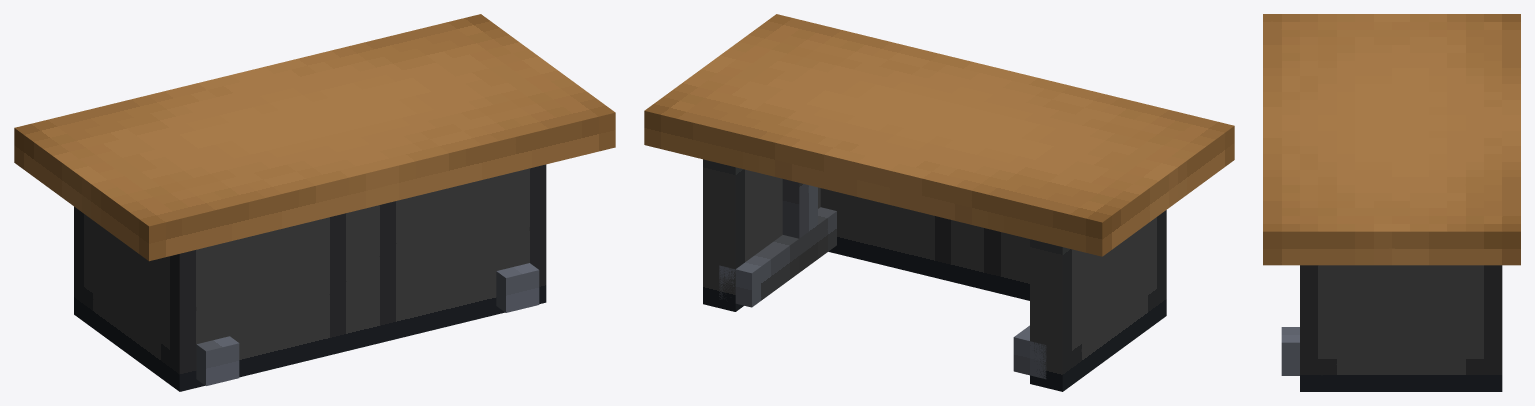
Rendered from Table_02.fbx.
3 renders of one model, left to right at view 1: azimuth 30°, elevation 25°; view 2: azimuth 150°, elevation 25°; view 3: azimuth 270°, elevation 25°, orthographic. The views are drawn at different scales.
Visible parts, largest first — view 1: cube, cube_7, cube_8, cube_9, cube_3, cube_4; view 2: cube, cube_8, cube_7, cube_9, cube_3, cube_2, cube_4; view 3: cube, cube_9, cube_3.
Boxes of the visible parts, bbox=[...] form: cube: bbox=[14, 14, 615, 261]; cube_7: bbox=[213, 172, 512, 377]; cube_8: bbox=[74, 206, 212, 391]; cube_9: bbox=[513, 164, 546, 303]; cube_3: bbox=[496, 263, 539, 312]; cube_4: bbox=[196, 336, 239, 385]; cube: bbox=[644, 14, 1234, 256]; cube_8: bbox=[1030, 210, 1166, 391]; cube_7: bbox=[820, 188, 1029, 300]; cube_9: bbox=[703, 159, 820, 311]; cube_3: bbox=[719, 207, 836, 307]; cube_2: bbox=[782, 179, 817, 272]; cube_4: bbox=[1013, 325, 1046, 379]; cube: bbox=[1263, 14, 1520, 265]; cube_9: bbox=[1300, 265, 1502, 391]; cube_3: bbox=[1281, 327, 1299, 375].
Size of the model in its own units: 175 by 68.75 by 87.5.
Materials: 2 (2 with a texture image).
